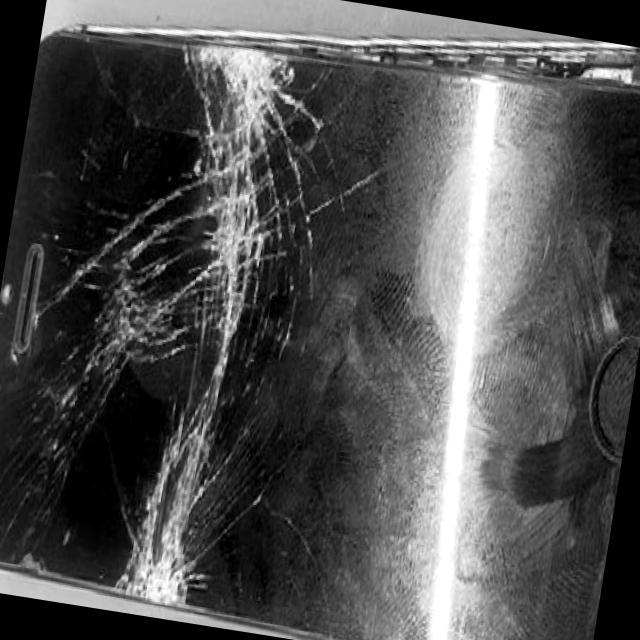Crack: (0, 21, 348, 624)
